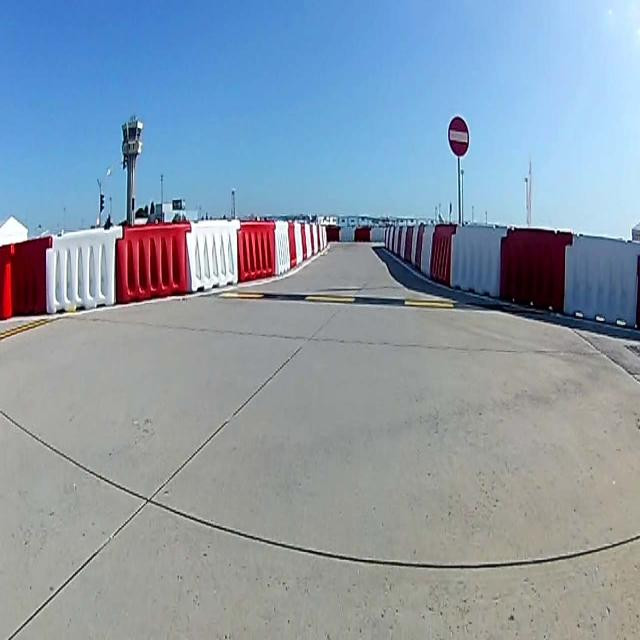girisyok: (448, 113, 468, 158)
